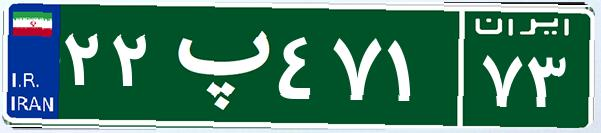1: (385, 28, 445, 110)
2: (57, 26, 110, 107), (110, 28, 158, 105)
3: (525, 38, 570, 115)
4: (273, 28, 330, 110)
7: (330, 28, 385, 110), (475, 38, 525, 113)
پ: (158, 15, 273, 115)
